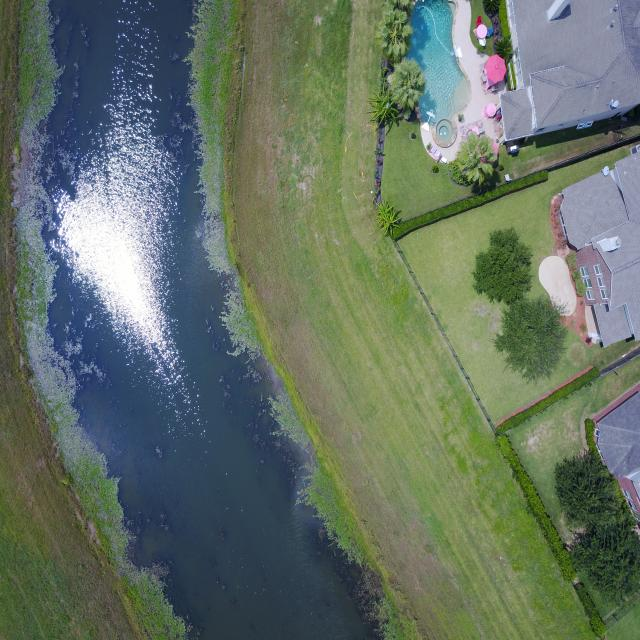fire: (40, 0, 366, 639)
